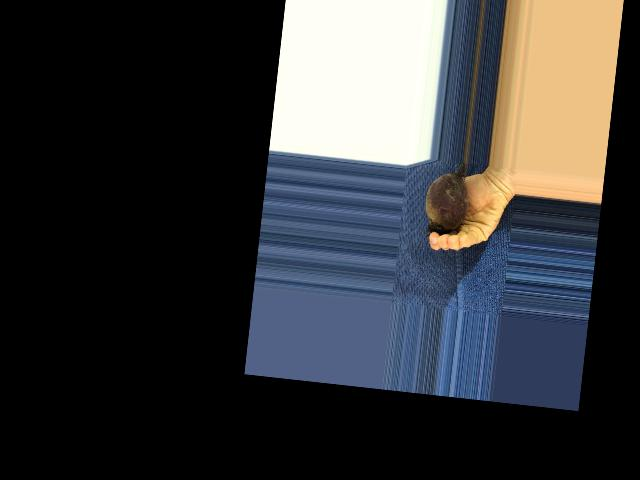beet: (422, 159, 473, 242)
